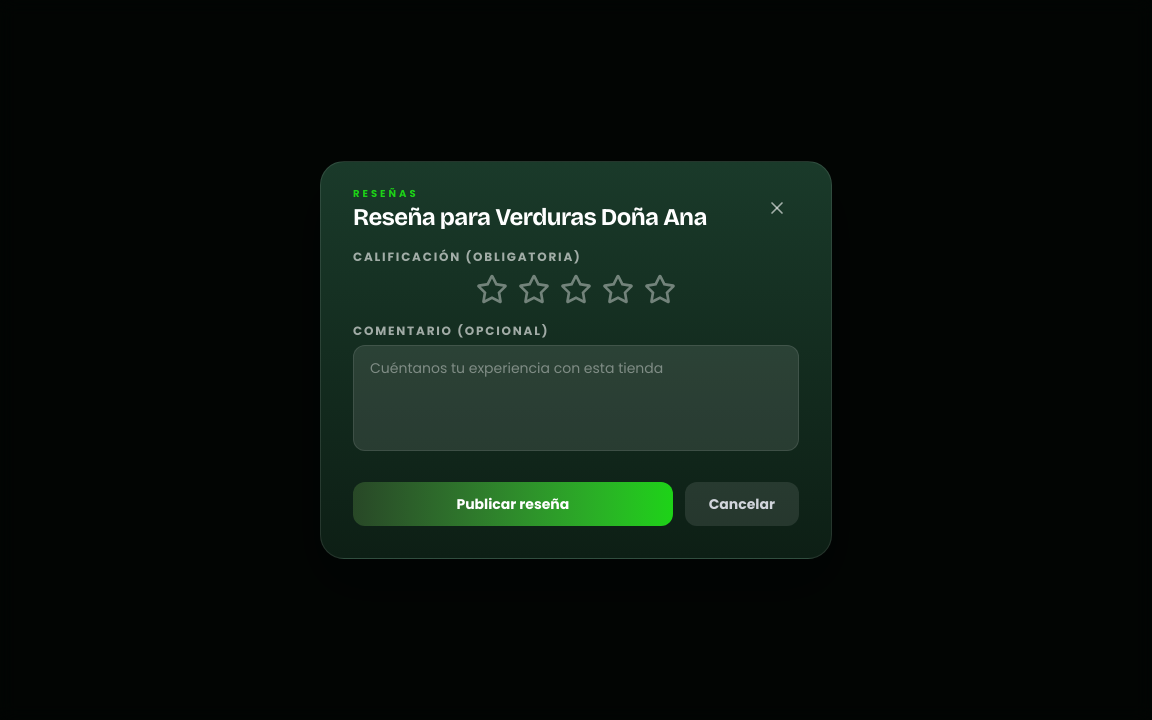
Test case: ReviewFormModal › no publica si no se selecciona calificación
Click the button "Publicar reseña": (513, 504) [353,482,673,526]
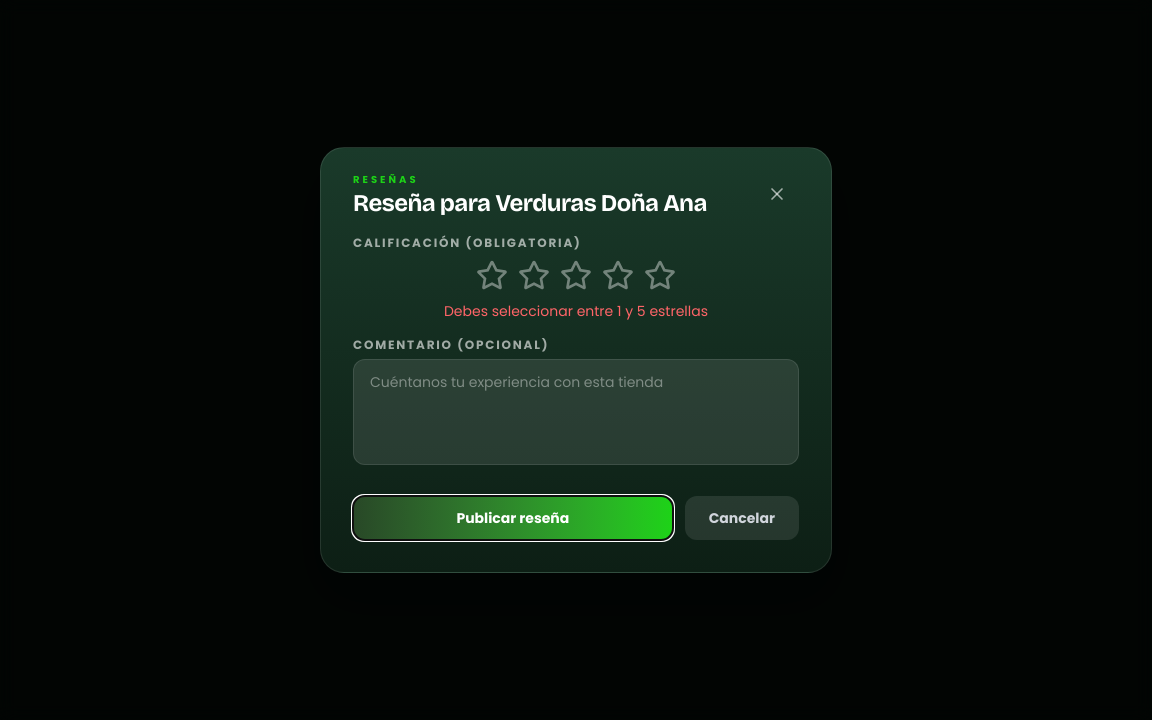
Expected: the text "Debes seleccionar entre 1 y 5 estrellas" is shown, [444,301,708,321]
